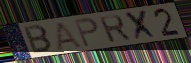2: (153, 7, 182, 38)
A: (55, 20, 85, 51)
B: (22, 24, 55, 54)
P: (73, 16, 101, 49)
R: (97, 14, 133, 45)
X: (123, 8, 160, 42)
